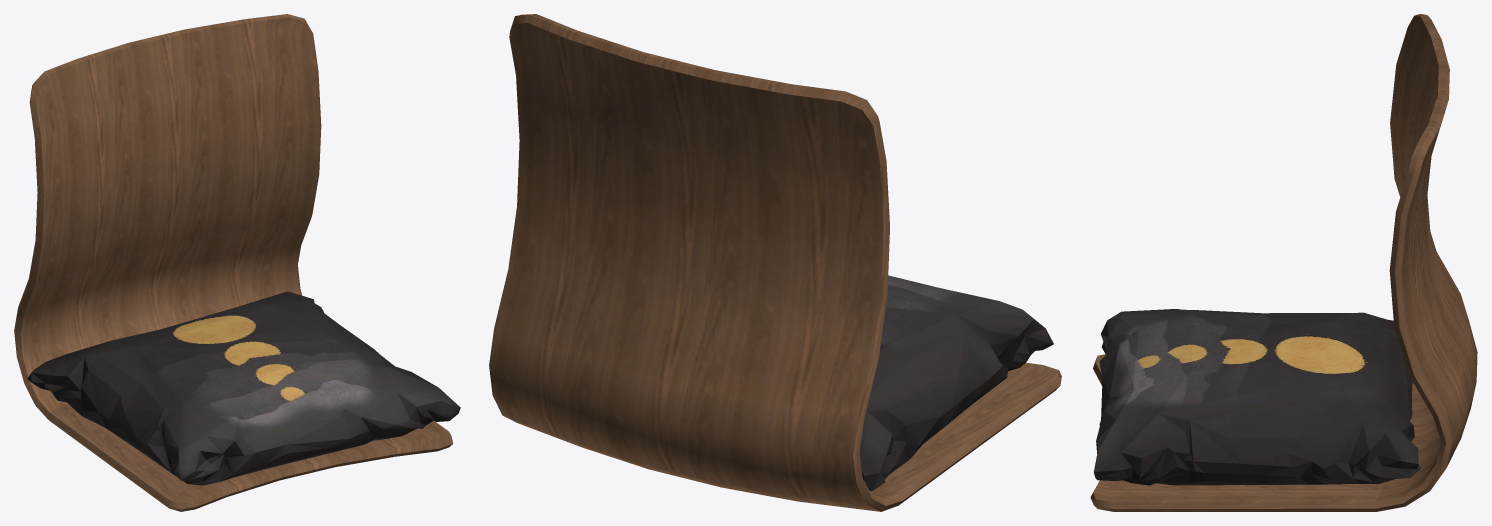
File: Chair1.b.fbx
3 views of the same model, side by side, from view 1: azimuth 30°, elevation 25°; view 2: azimuth 150°, elevation 25°; view 3: azimuth 270°, elevation 25° (orthographic). The views are drawn at different scales.
Parts seen in each view (by area): view 1: Group 0; view 2: Group 0; view 3: Group 0.
Boxes of the visible parts, box(x1,y1,x2,y2) form: Group 0: box(14, 14, 460, 511); Group 0: box(489, 14, 1061, 511); Group 0: box(1090, 14, 1477, 511).
Bounding box in the file's own units: 61.44 × 67.04 × 65.64.
Materials: 2 (2 with a texture image).
